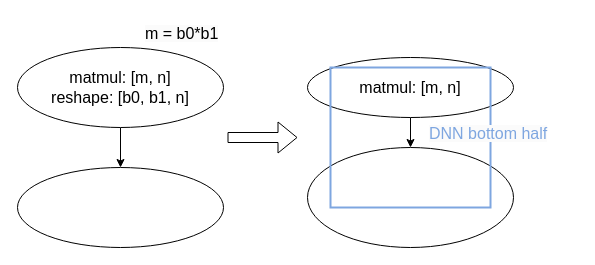
This 595x265 diagram has some shape labels left out. The shapes that lost their labels are listed below. From the top down, each one's box as (x1, y1, x2, y2) in pixels, then its label:
(16, 166, 224, 248): layernorm: [b0, b1, n] swish: [b0, b1, n]
(306, 146, 514, 248): layernorm: [m, n] swish: [m, n] reshape: [b0, b1, n]
